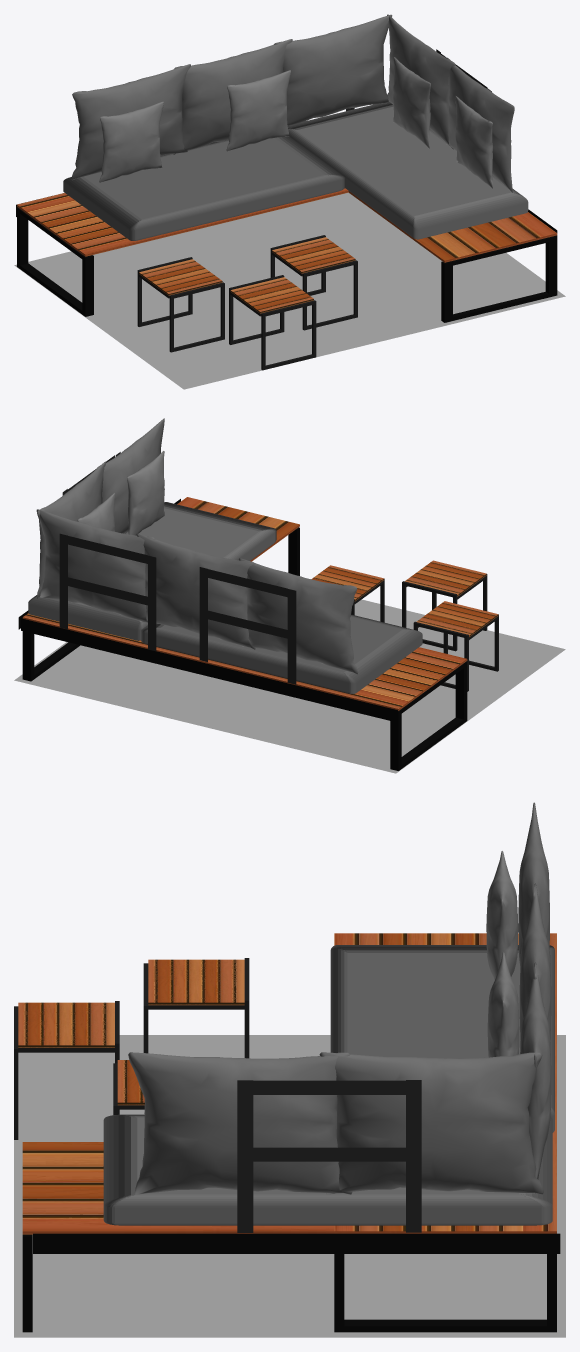
The picture shows the model from 3 angles, top to bottom: view 1: azimuth 30°, elevation 25°; view 2: azimuth 150°, elevation 25°; view 3: azimuth 270°, elevation 25°; orthographic projection. The views are drawn at different scales.
Parts seen in each view (by area): view 1: Asset3DLoader.sceneRoot; view 2: Asset3DLoader.sceneRoot; view 3: Asset3DLoader.sceneRoot.
Part boxes in pixels (<box>): Asset3DLoader.sceneRoot: <box>14,14,565,389</box>; Asset3DLoader.sceneRoot: <box>14,418,565,773</box>; Asset3DLoader.sceneRoot: <box>14,802,565,1337</box>.
Size of the model in its own units: 319 by 134 by 246.
13 materials, 2 textured.
